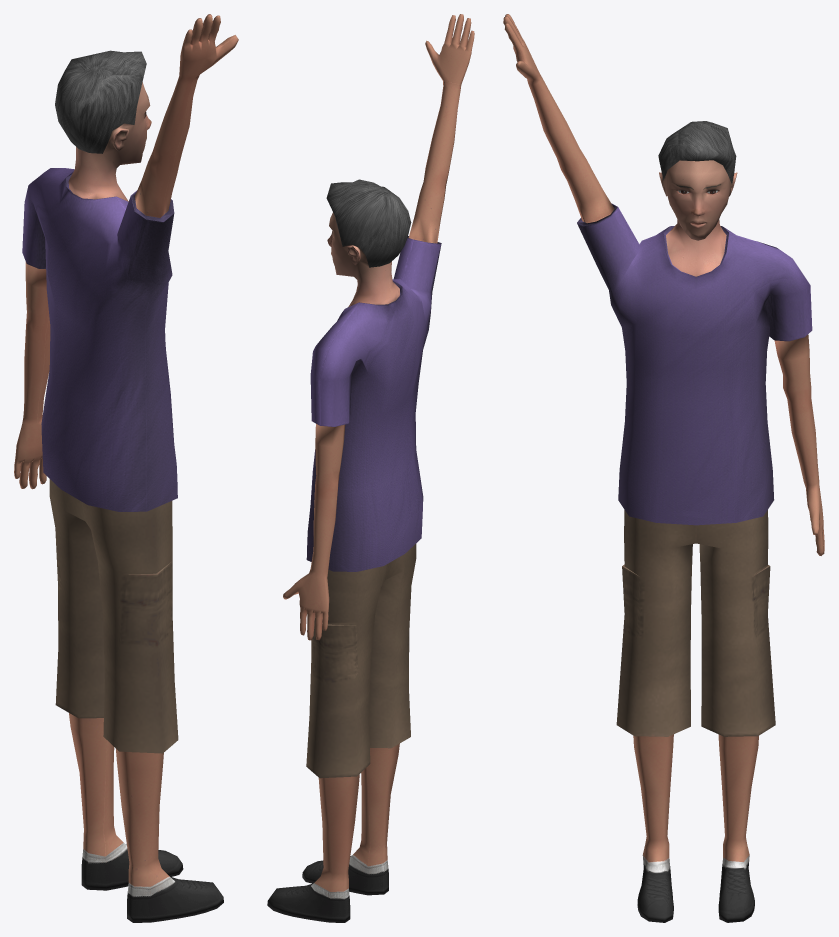
The model's file is standing_right.dae.
3 renders of one model, left to right at view 1: azimuth 30°, elevation 25°; view 2: azimuth 150°, elevation 25°; view 3: azimuth 270°, elevation 25°, orthographic. The views are drawn at different scales.
Visible parts, largest first — view 1: StaticHuman; view 2: StaticHuman; view 3: StaticHuman.
Boxes of the visible parts, x1=… form: StaticHuman: x1=14, y1=14, x2=238, y2=922; StaticHuman: x1=267, y1=14, x2=474, y2=922; StaticHuman: x1=503, y1=14, x2=824, y2=922.
Bounding box in the file's own units: 0.3071 × 0.6831 × 2.03.
Materials: 1 (1 with a texture image).
